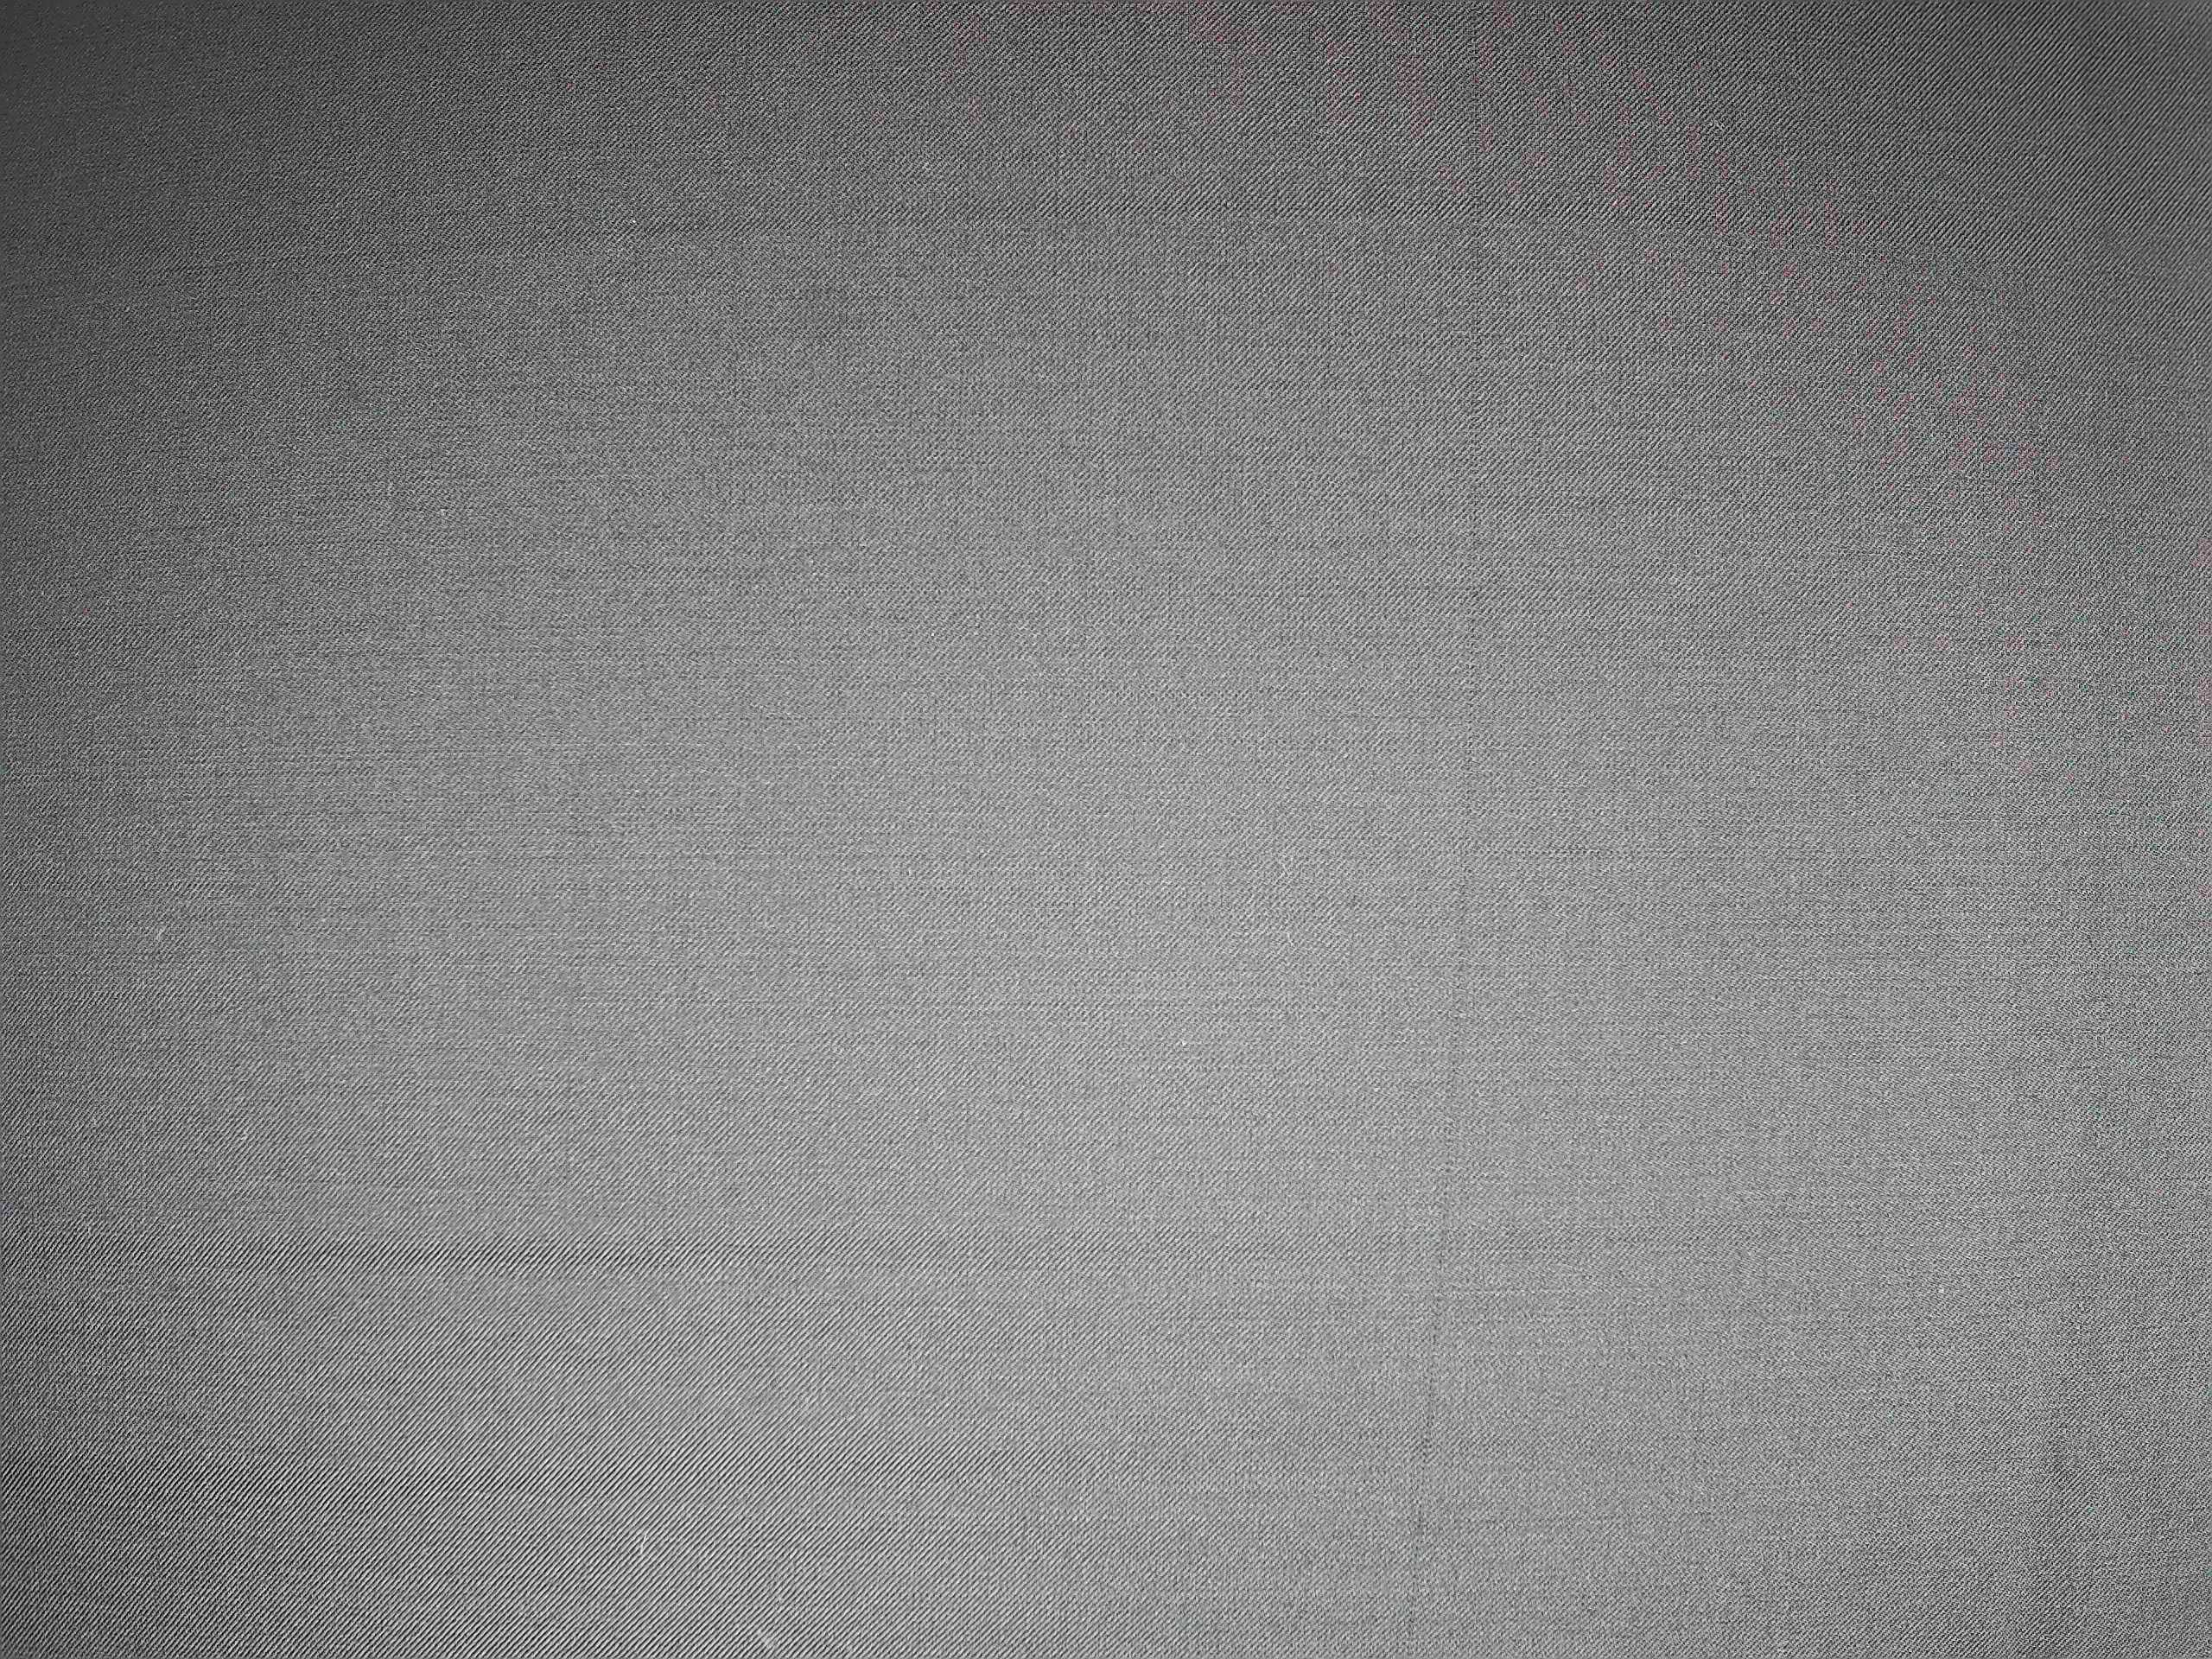lacking-warp: (1407, 10, 1503, 1626)
